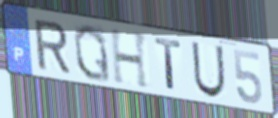5: (231, 47, 264, 106)
H: (108, 27, 151, 91)
Q: (72, 22, 113, 85)
R: (32, 18, 73, 75)
T: (152, 35, 184, 93)
U: (190, 40, 227, 100)
